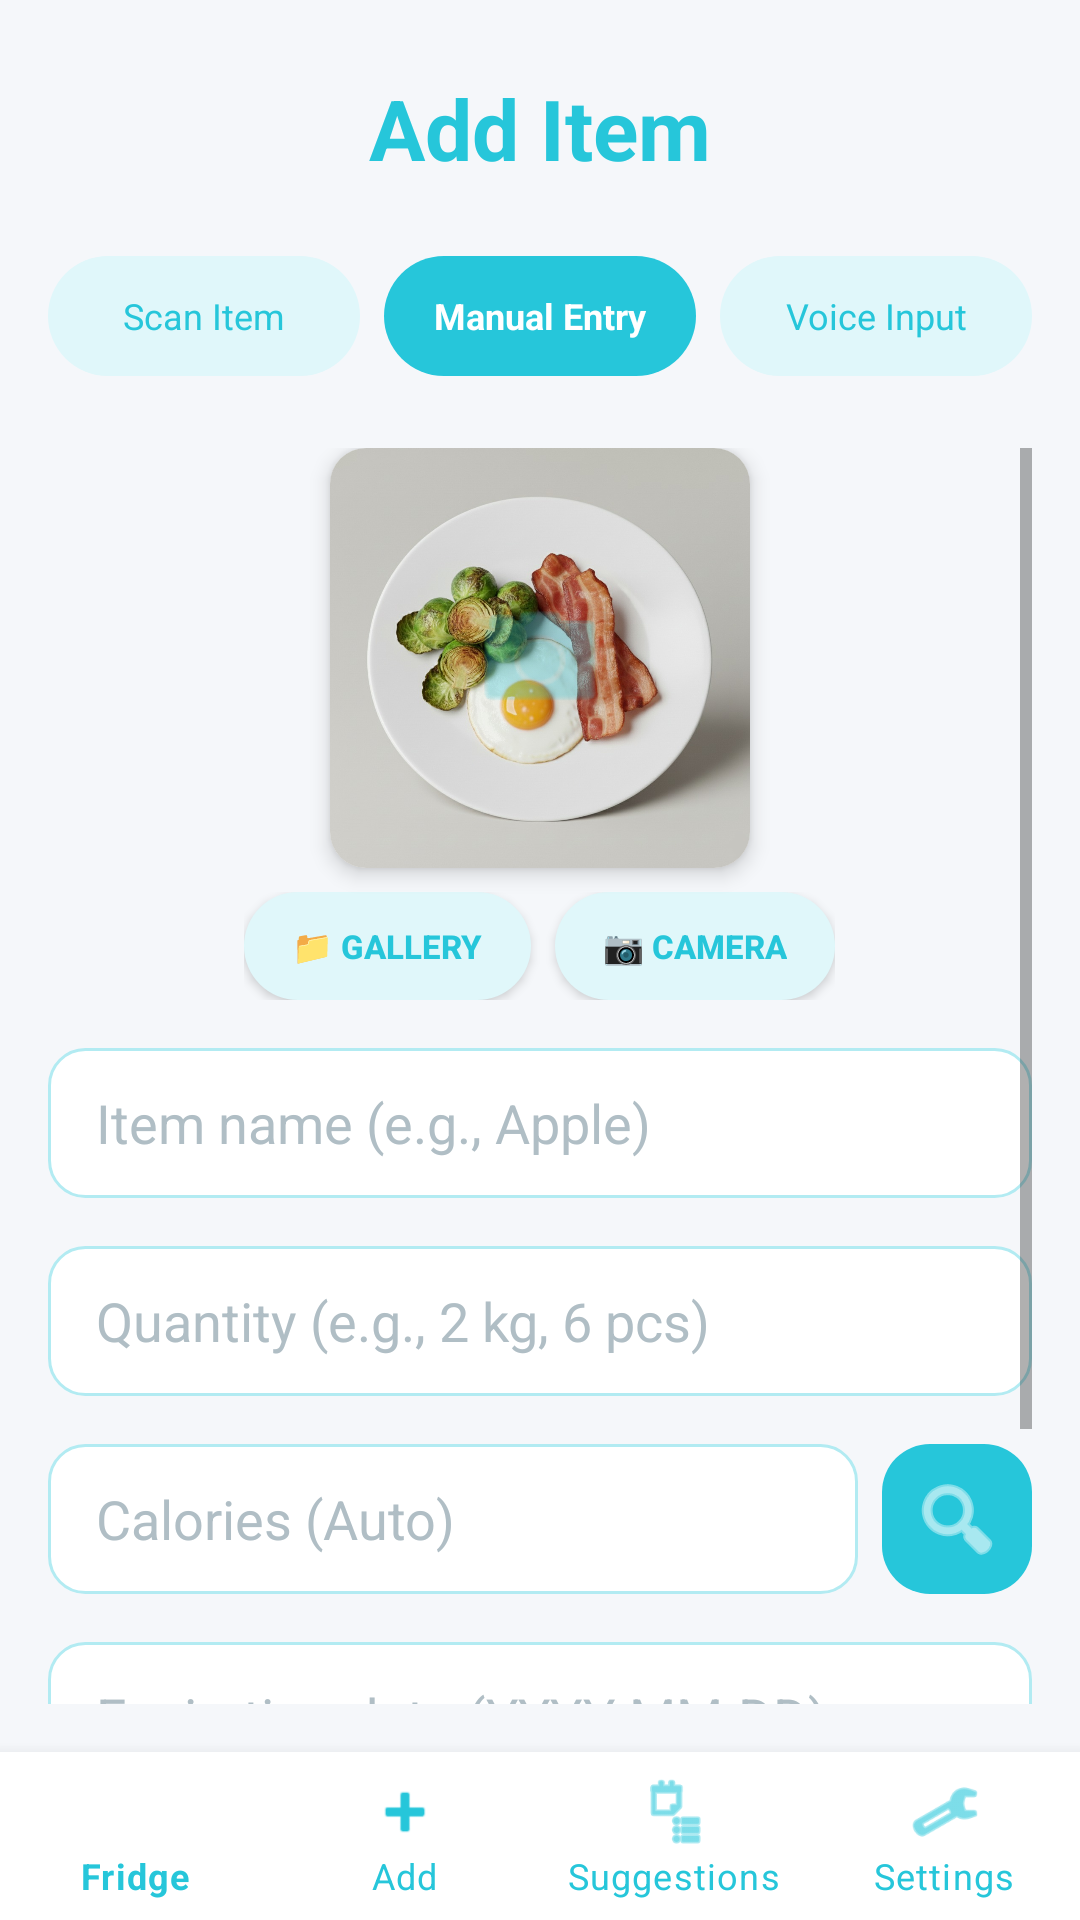

Point at icon controls on the screen. Image size 1080w x 1920h, points as (x=x, y=y).
Search food info: (x=957, y=1519)
